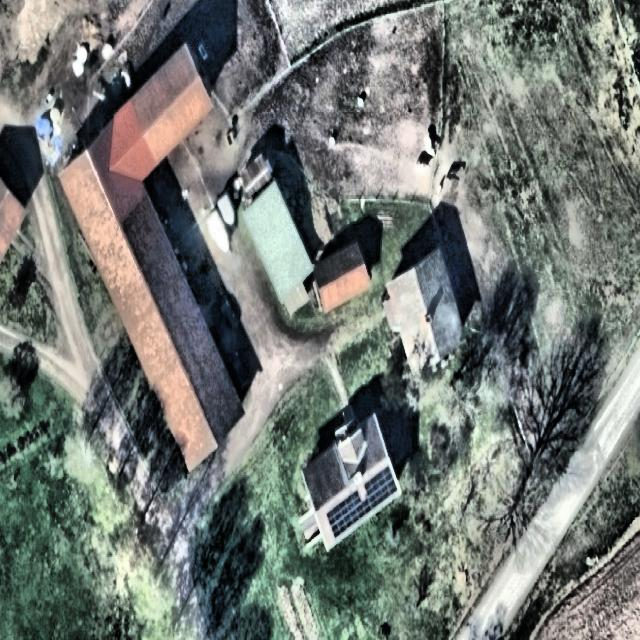roof_pv: (324, 489, 361, 542), (361, 464, 399, 515)
